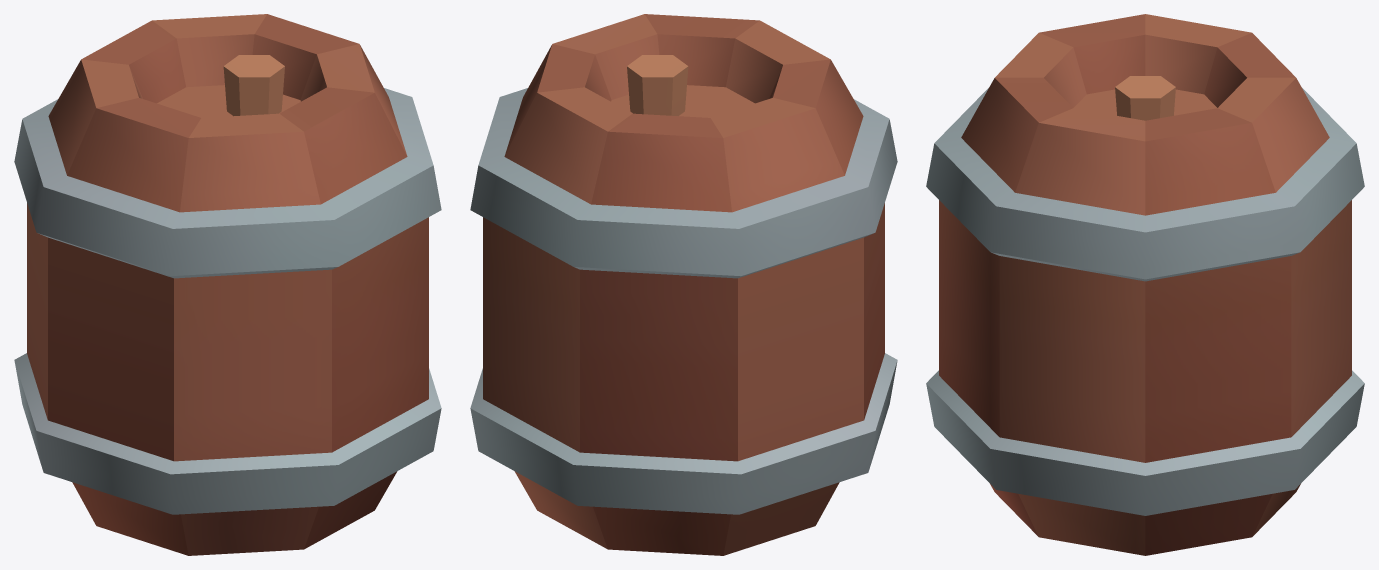
The model's file is barrel.glb.
3 views of the same model, side by side, from view 1: azimuth 30°, elevation 25°; view 2: azimuth 150°, elevation 25°; view 3: azimuth 270°, elevation 25° (orthographic).
Visible parts, largest first — view 1: barrel; view 2: barrel; view 3: barrel.
Boxes of the visible parts, box(x1,y1,x2,y2) form: barrel: box(14, 14, 441, 555); barrel: box(470, 14, 897, 555); barrel: box(926, 14, 1364, 555).
Size of the model in its own units: 0.2015 by 0.2117 by 0.2015.
Materials: 1 (1 with a texture image).
